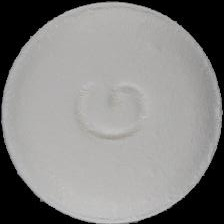68462-163: (0, 0, 224, 224)
